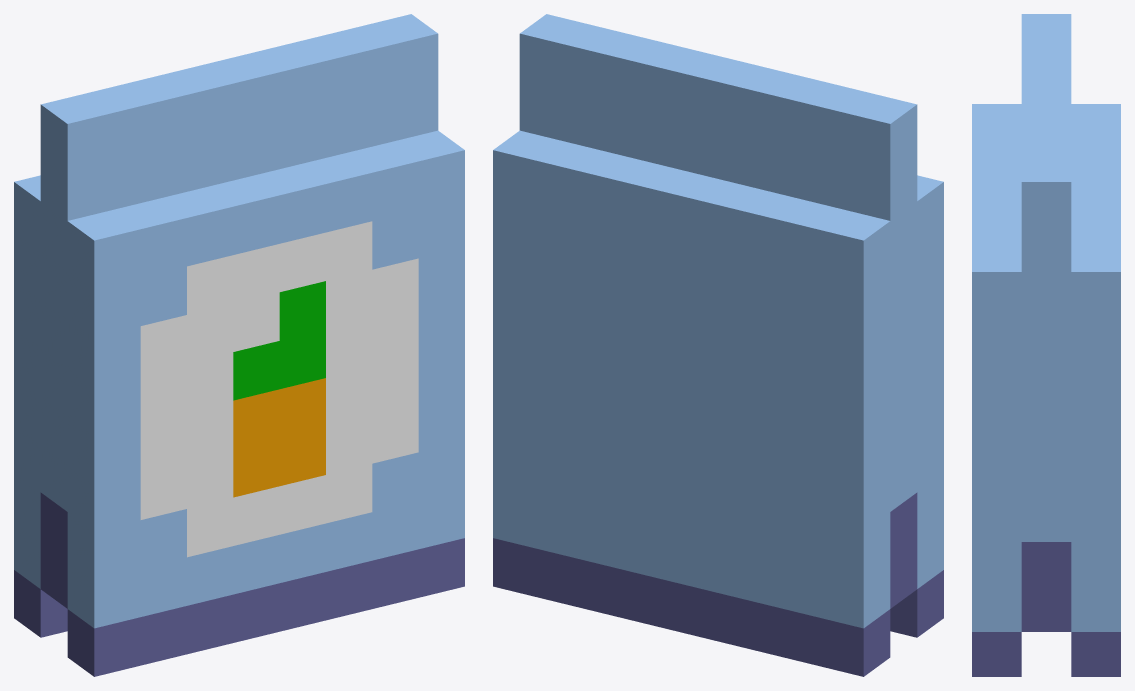
File: Semillas_Zanahorias.fbx
3 renders of one model, left to right at view 1: azimuth 30°, elevation 25°; view 2: azimuth 150°, elevation 25°; view 3: azimuth 270°, elevation 25°, orthographic. The views are drawn at different scales.
Visible parts, largest first — view 1: semillas_zanahoria_8x11x3; view 2: semillas_zanahoria_8x11x3; view 3: semillas_zanahoria_8x11x3.
Part boxes in pixels (x1=…): semillas_zanahoria_8x11x3: x1=14, y1=14, x2=464, y2=676; semillas_zanahoria_8x11x3: x1=493, y1=14, x2=943, y2=676; semillas_zanahoria_8x11x3: x1=972, y1=14, x2=1120, y2=676.
Size of the model in its own units: 800 by 1100 by 300.
